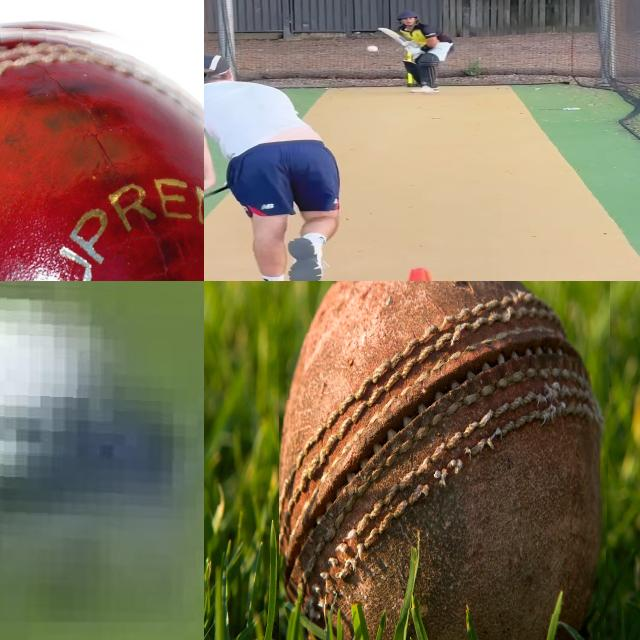Cricket ball: (278, 281, 611, 640), (0, 281, 200, 622), (0, 16, 204, 281), (366, 43, 379, 53)
